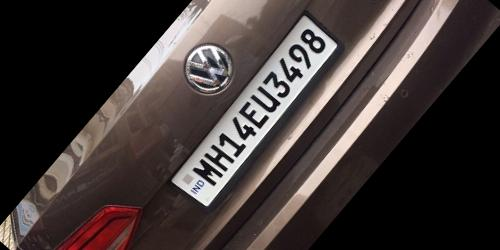plate: (162, 1, 362, 218)
